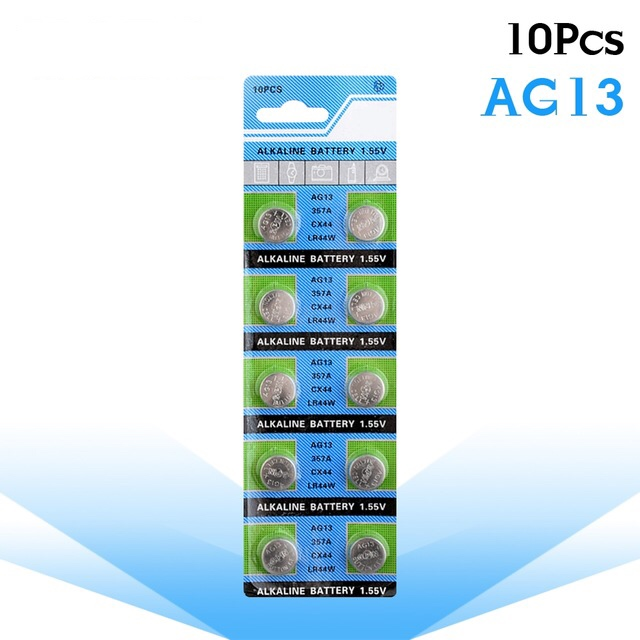Battery: (344, 282, 389, 330), (257, 451, 302, 498), (346, 532, 389, 578), (343, 450, 387, 494), (259, 535, 303, 579), (346, 202, 389, 246), (345, 365, 388, 409), (254, 370, 299, 412), (254, 287, 298, 329), (255, 205, 300, 246)
